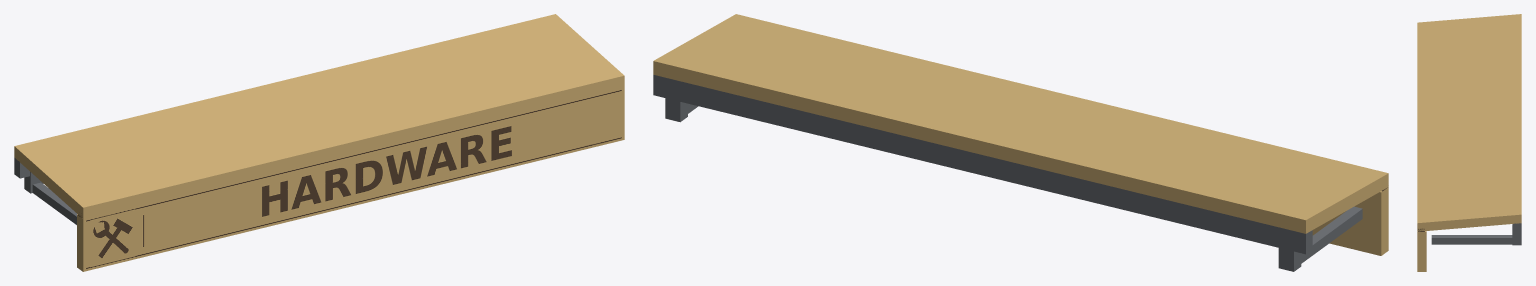
The model's file is building-business-hardware.glb.
3 renders of one model, left to right at view 1: azimuth 30°, elevation 25°; view 2: azimuth 150°, elevation 25°; view 3: azimuth 270°, elevation 25°, orthographic. The views are drawn at different scales.
Parts seen in each view (by area): view 1: business-hardware; view 2: business-hardware; view 3: business-hardware.
Part boxes in pixels (box(x1,y1,x2,y2)): business-hardware: box(14, 14, 624, 271); business-hardware: box(653, 14, 1388, 271); business-hardware: box(1417, 14, 1521, 271).
Bounding box in the file's own units: 3 × 0.4 × 0.66.
Materials: 4 (1 with a texture image).
